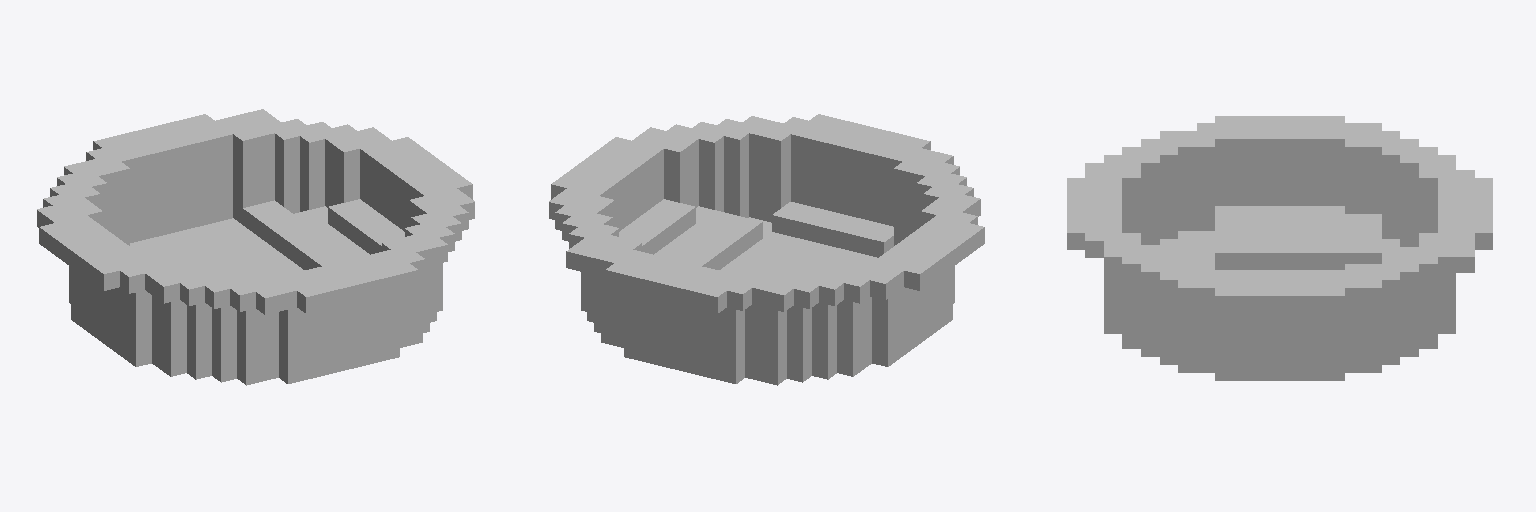
File: sink.obj
3 views of the same model, side by side, from view 1: azimuth 30°, elevation 25°; view 2: azimuth 150°, elevation 25°; view 3: azimuth 270°, elevation 25° (orthographic).
Parts seen in each view (by area): view 1: sink; view 2: sink; view 3: sink.
Boxes of the visible parts, <box> form: sink: <box>37,109,474,385</box>; sink: <box>549,114,984,385</box>; sink: <box>1067,116,1492,380</box>.
Size of the model in its own units: 23 by 6 by 23.